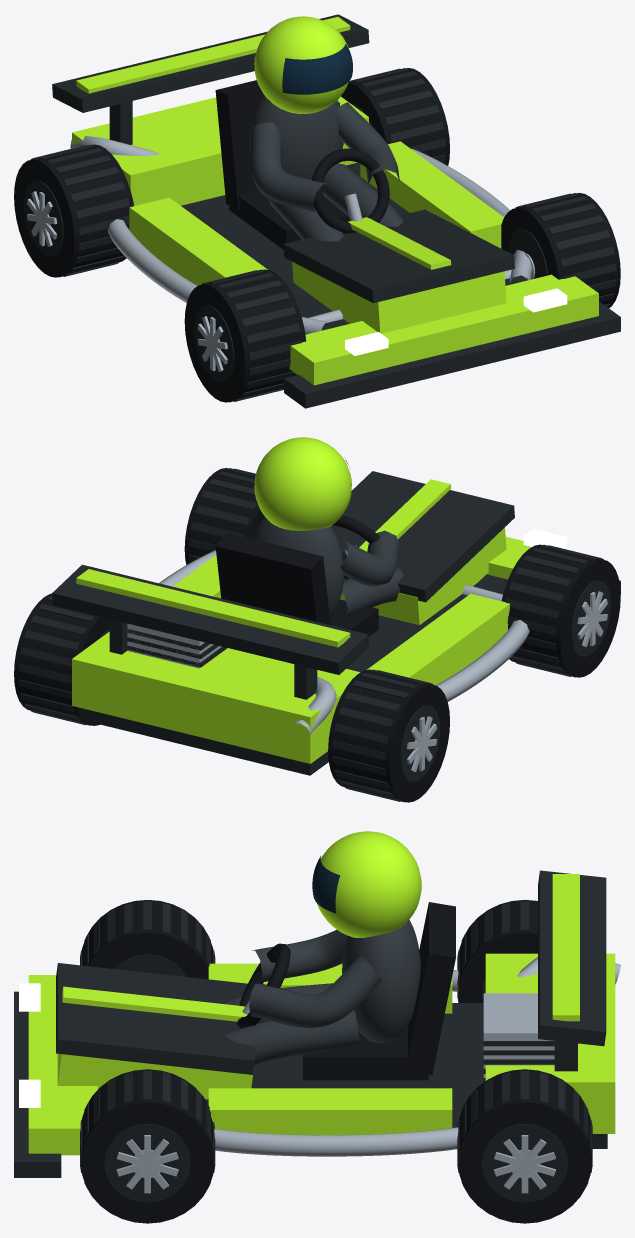
File: apex.glb
The picture shows the model from 3 angles, top to bottom: view 1: azimuth 30°, elevation 25°; view 2: azimuth 150°, elevation 25°; view 3: azimuth 270°, elevation 25°; orthographic projection. The views are drawn at different scales.
Visible parts, largest first — view 1: paint, graphite, rubber, suit, metal, visor, lamp; view 2: paint, graphite, rubber, metal, suit, lamp; view 3: graphite, paint, rubber, suit, metal, lamp, visor.
Part boxes in pixels (bbox=[...]): paint: bbox=[72, 16, 598, 385]; graphite: bbox=[23, 14, 620, 408]; rubber: bbox=[14, 68, 620, 402]; suit: bbox=[249, 95, 403, 241]; metal: bbox=[27, 99, 535, 371]; visor: bbox=[282, 44, 352, 94]; lamp: bbox=[345, 288, 567, 355]; paint: bbox=[72, 437, 531, 763]; graphite: bbox=[18, 468, 620, 802]; rubber: bbox=[14, 468, 620, 802]; metal: bbox=[127, 545, 607, 771]; suit: bbox=[250, 517, 403, 620]; lamp: bbox=[351, 485, 567, 548]; graphite: bbox=[14, 870, 607, 1202]; paint: bbox=[28, 831, 615, 1155]; rubber: bbox=[80, 900, 591, 1223]; suit: bbox=[224, 920, 420, 1064]; metal: bbox=[116, 957, 620, 1193]; lamp: bbox=[19, 983, 40, 1107]; visor: bbox=[312, 855, 339, 913].
Bounding box in the file's own units: 2.48 × 1.61 × 3.09.
